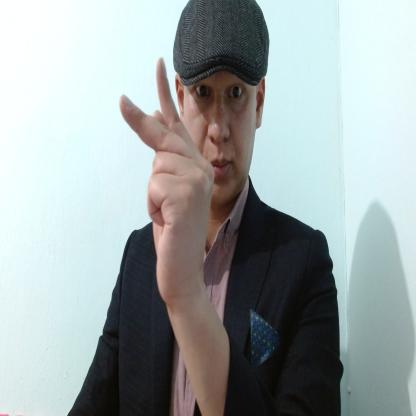P: (117, 53, 214, 302)
